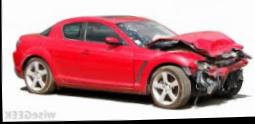Bonnet: (142, 32, 244, 70)
Bumper: (191, 57, 249, 97)
Light: (194, 61, 215, 71)
